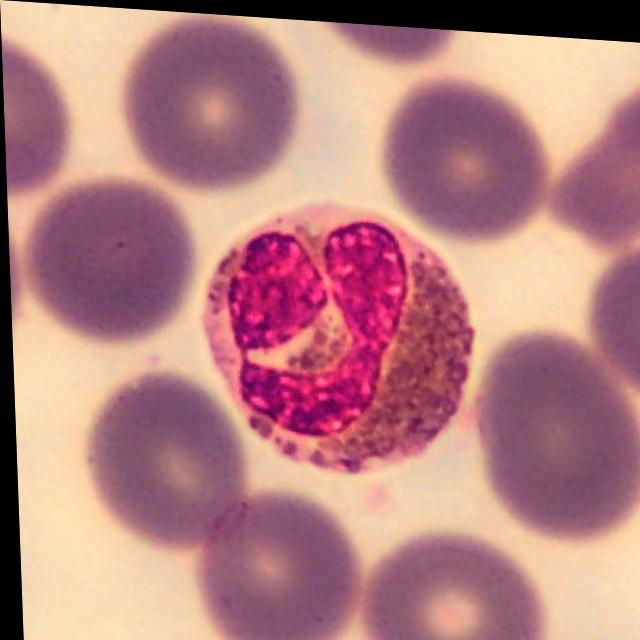Eosinofilo: (197, 197, 474, 476)
